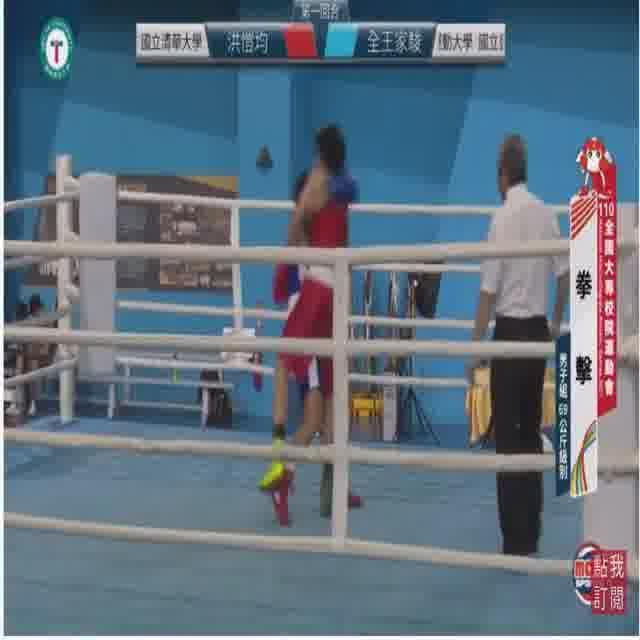blue-player: (270, 167, 363, 532)
red-player: (256, 120, 348, 522)
referee: (470, 133, 571, 573)
